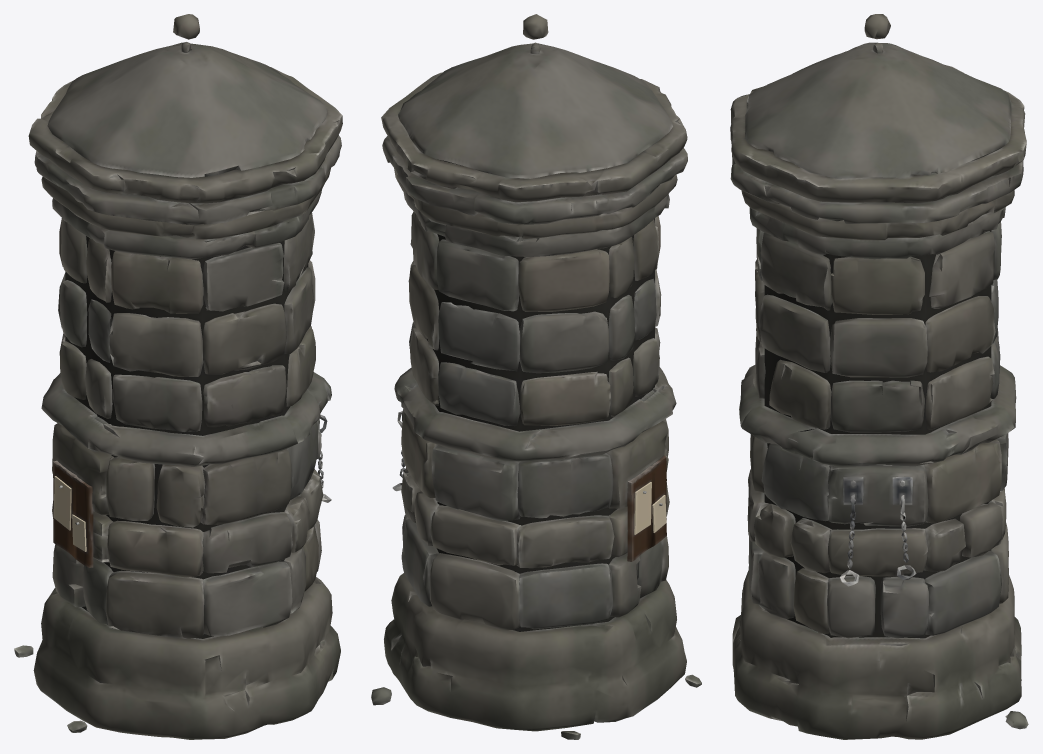
File: gallows_pillar.glb
3 views of the same model, side by side, from view 1: azimuth 30°, elevation 25°; view 2: azimuth 150°, elevation 25°; view 3: azimuth 270°, elevation 25° (orthographic).
Visible parts, largest first — view 1: gallows_pillar; view 2: gallows_pillar; view 3: gallows_pillar.
Boxes of the visible parts, <box> form: gallows_pillar: <box>14,14,342,739</box>; gallows_pillar: <box>371,14,701,739</box>; gallows_pillar: <box>730,14,1028,739</box>.
Bounding box in the file's own units: 2.56 × 6 × 2.42.
Materials: 1 (1 with a texture image).
